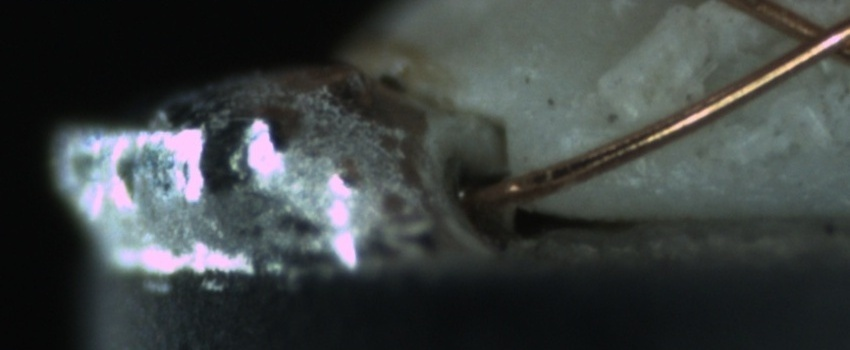CL: (769, 5, 850, 70)
